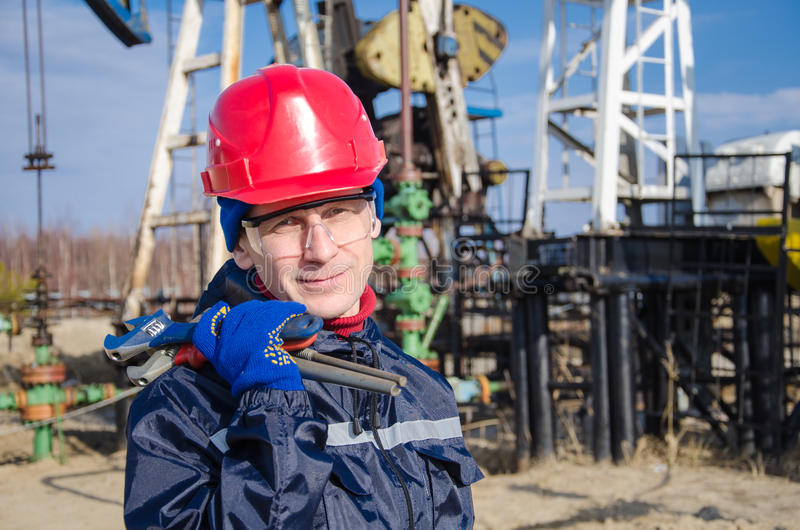Helmet: (199, 61, 392, 206)
